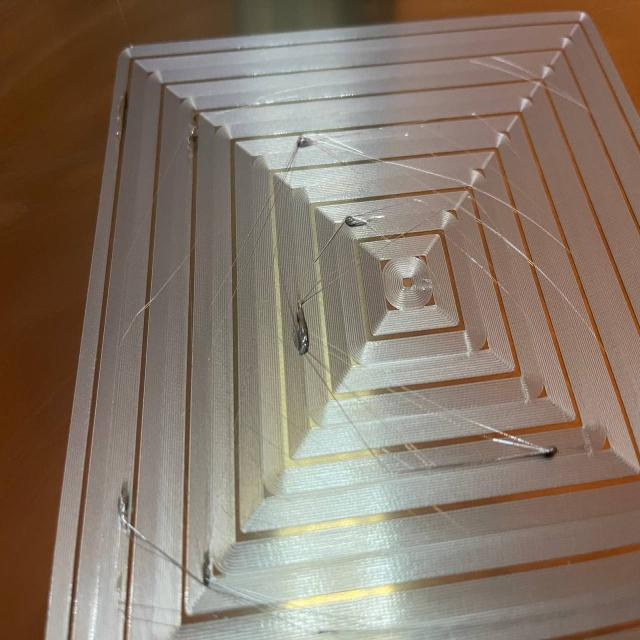blobs: (285, 288, 311, 362), (504, 440, 559, 464), (115, 487, 137, 528), (201, 546, 221, 588), (296, 129, 320, 160), (182, 116, 203, 150), (341, 211, 365, 237)
